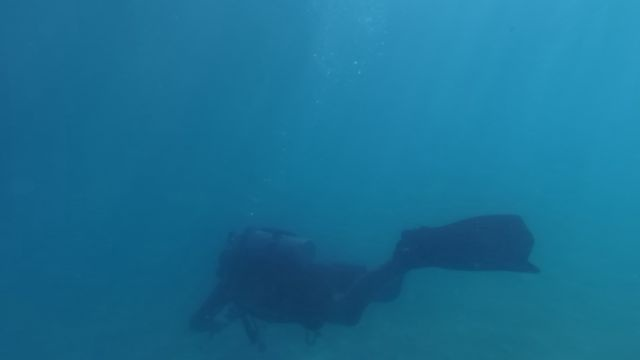Diver: (168, 186, 566, 347)
